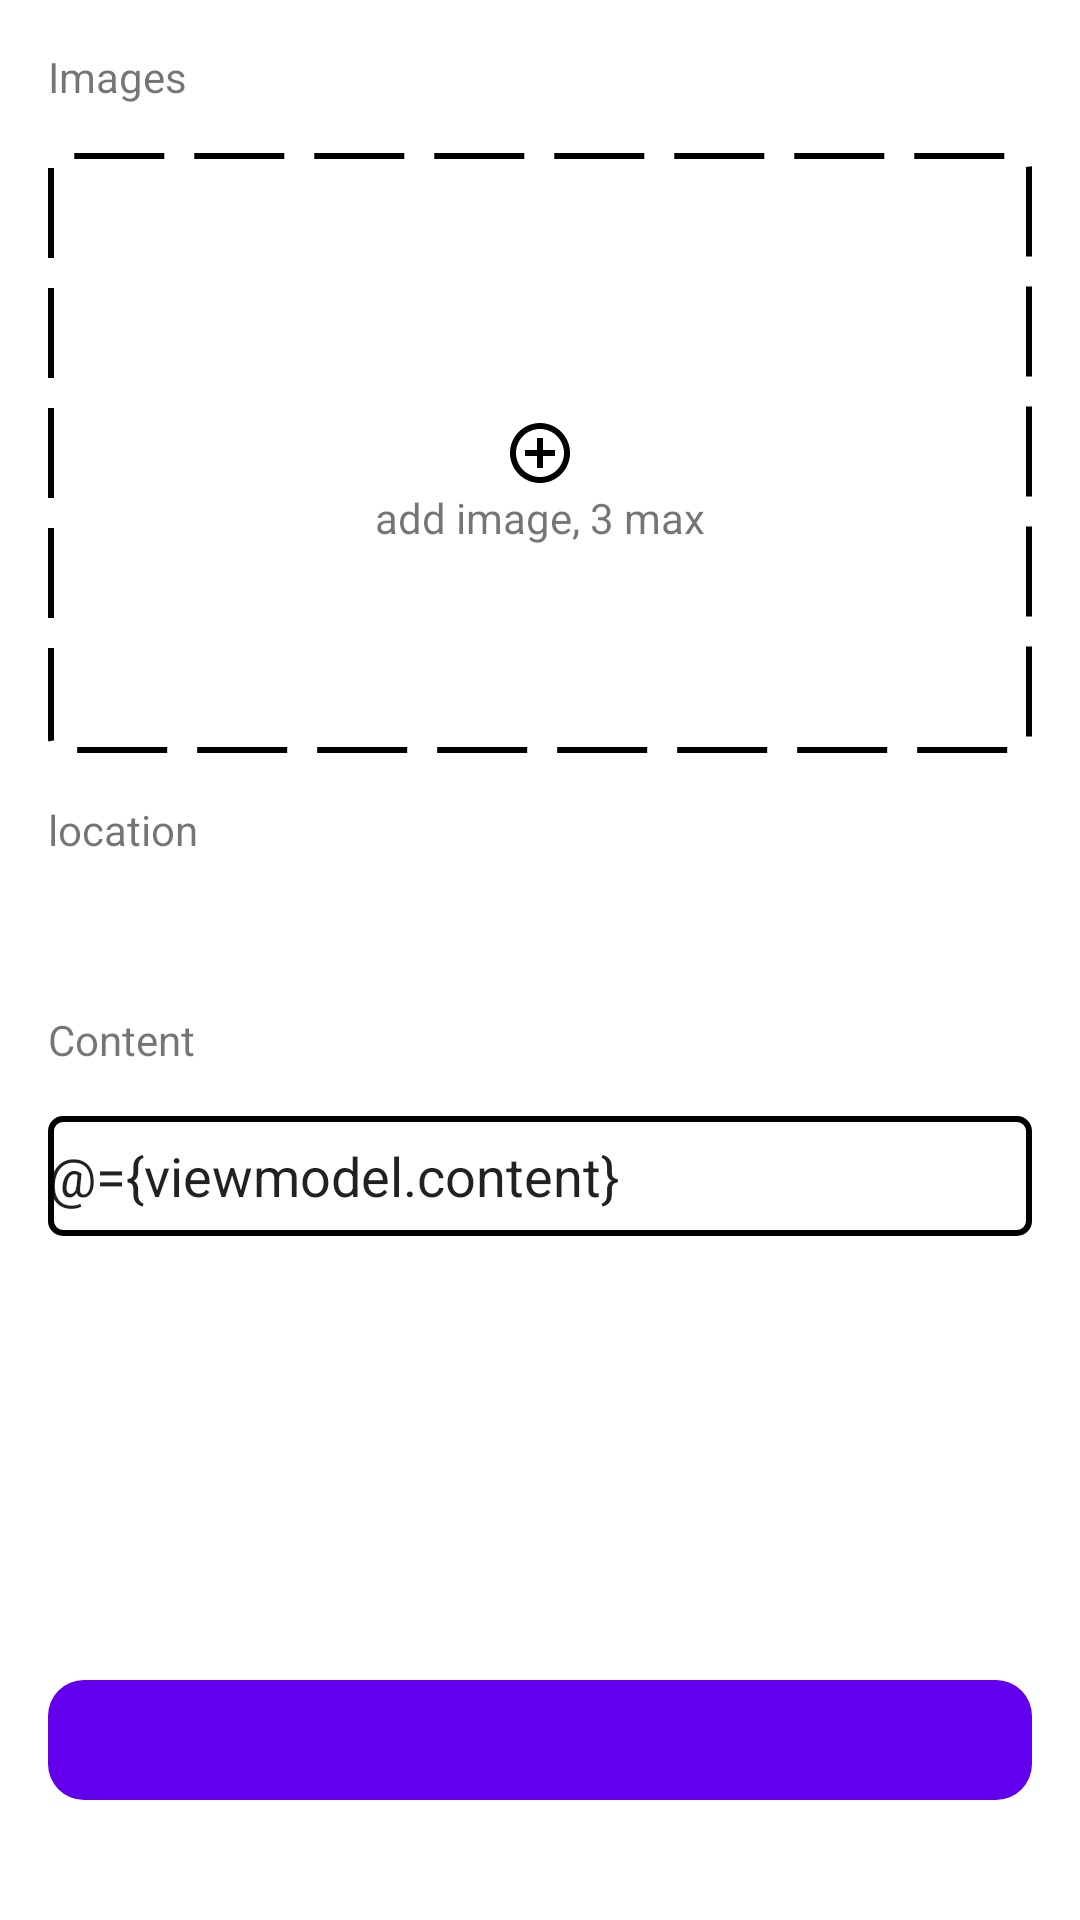

Screen size 1080 x 1920. Icon name, then its center in pixels as point (x, y):
add circle: point (540, 453)
